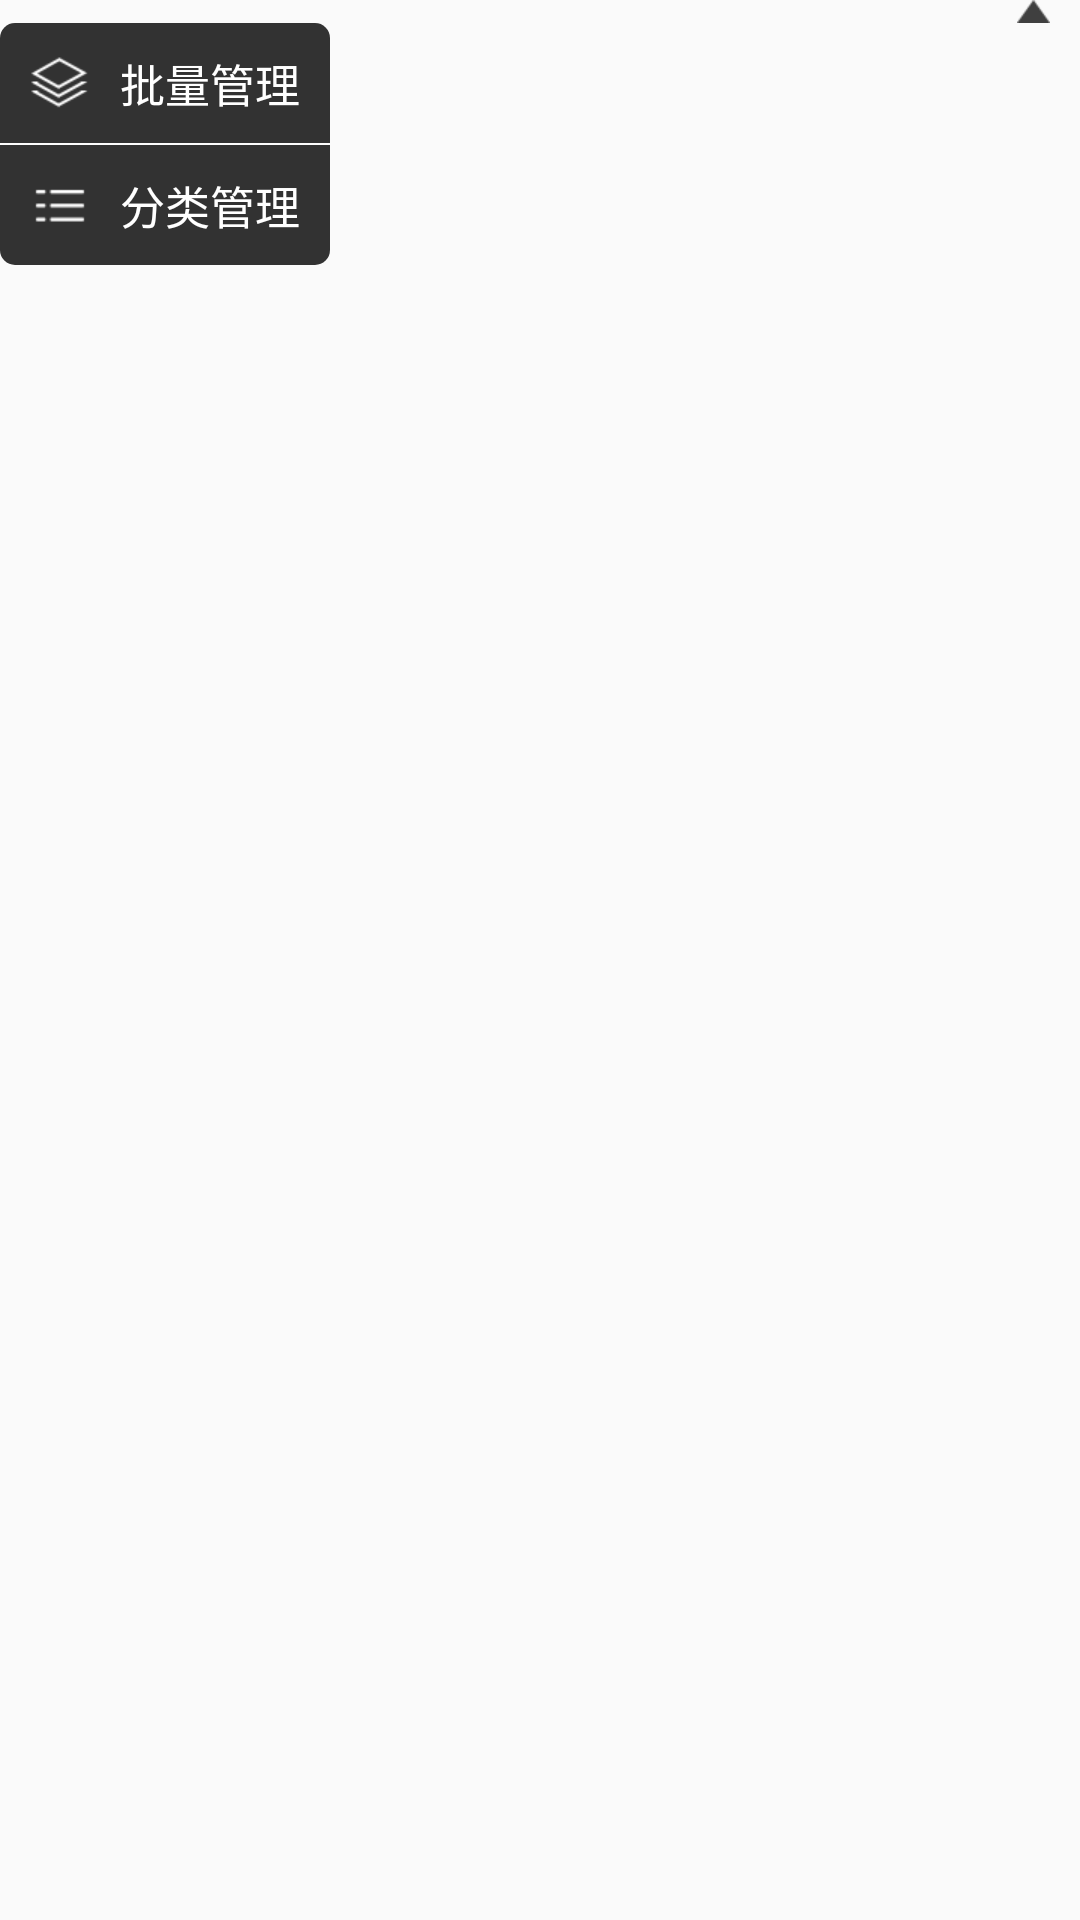

Point at icon controls on the screen. Image size 1080*1920, points as [x,y].
batch manage: [59,82]
class manage: [60,205]
